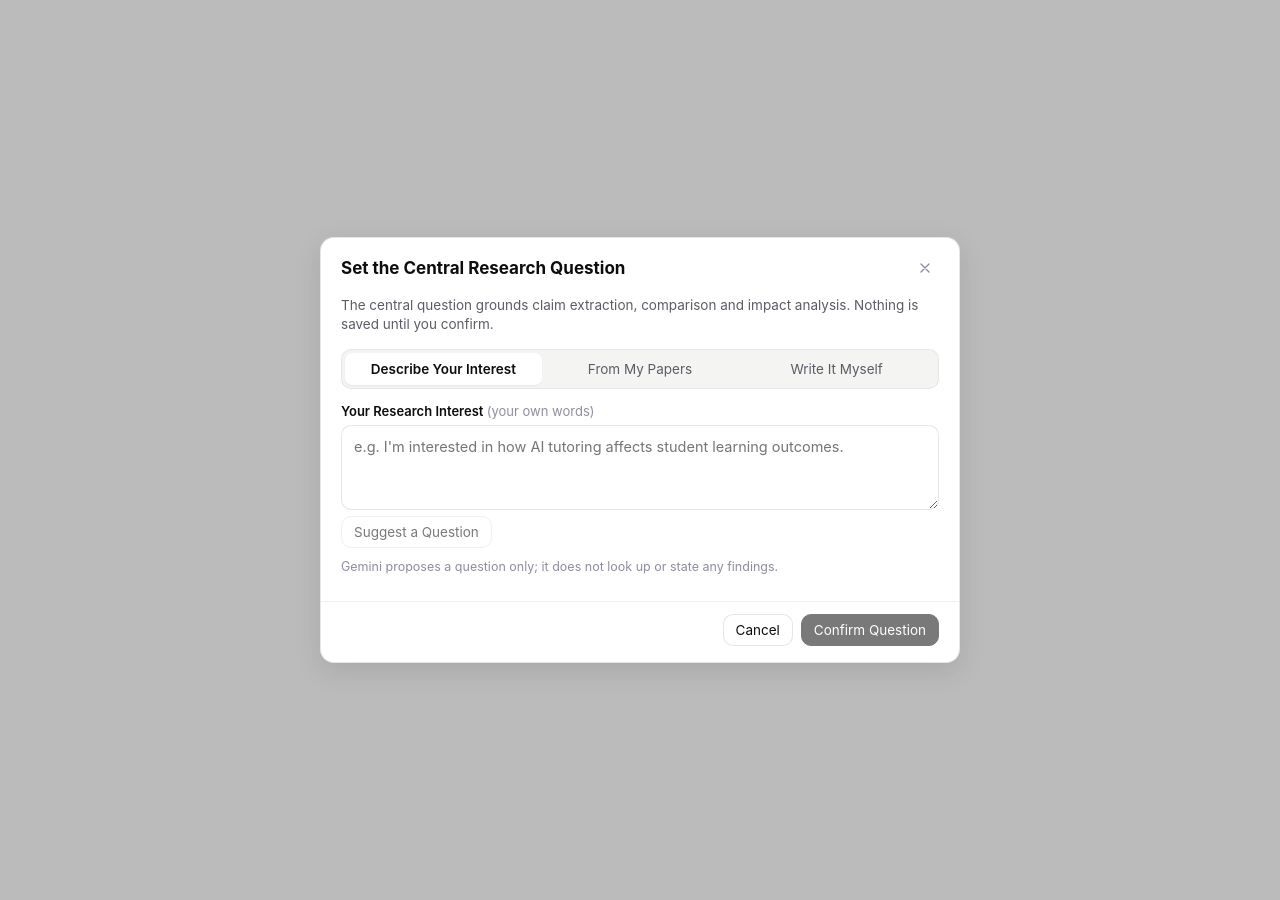
QuestionDialog › regenerates a different suggestion
The image size is (1280, 900).
Replace the text in the text box labelled "Your Research Interest (your own words)" with "I'm interested in how AI tutoring affects student learning outcomes." at [640, 467], box [341, 425, 939, 510]
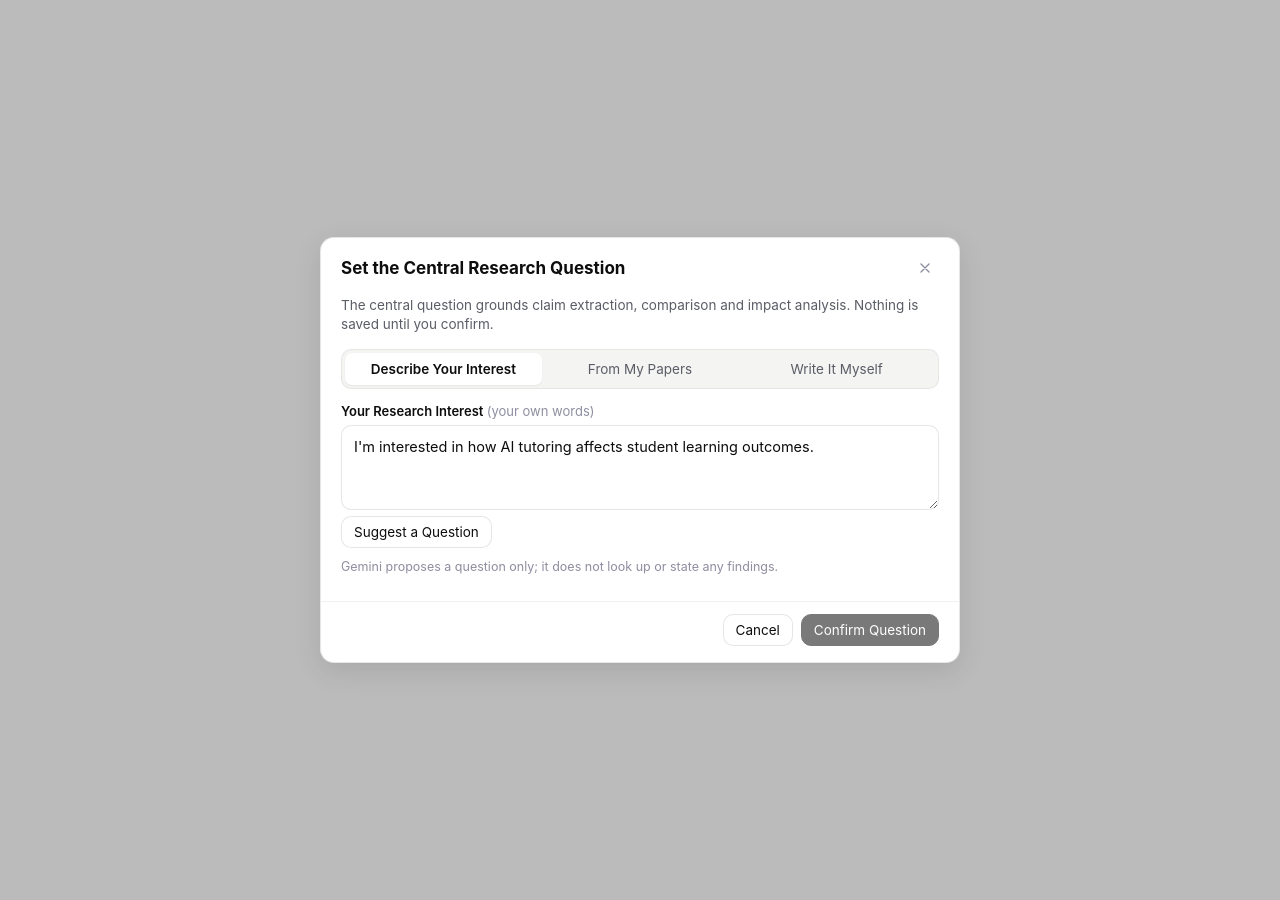
Click the button "Suggest a Question" at [416, 532], box [341, 516, 492, 548]
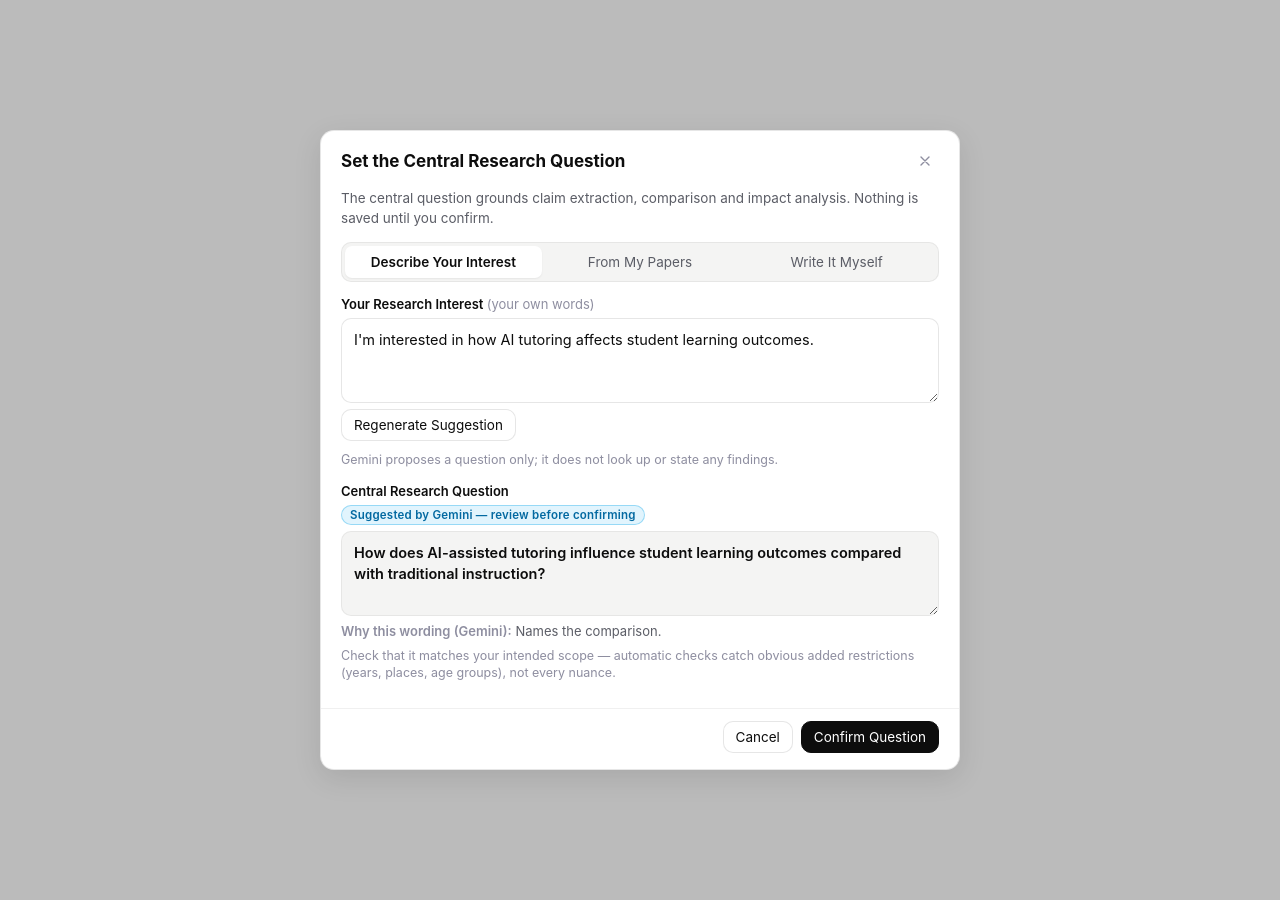
Click the button "Regenerate Suggestion" at [428, 425], box [341, 409, 516, 441]
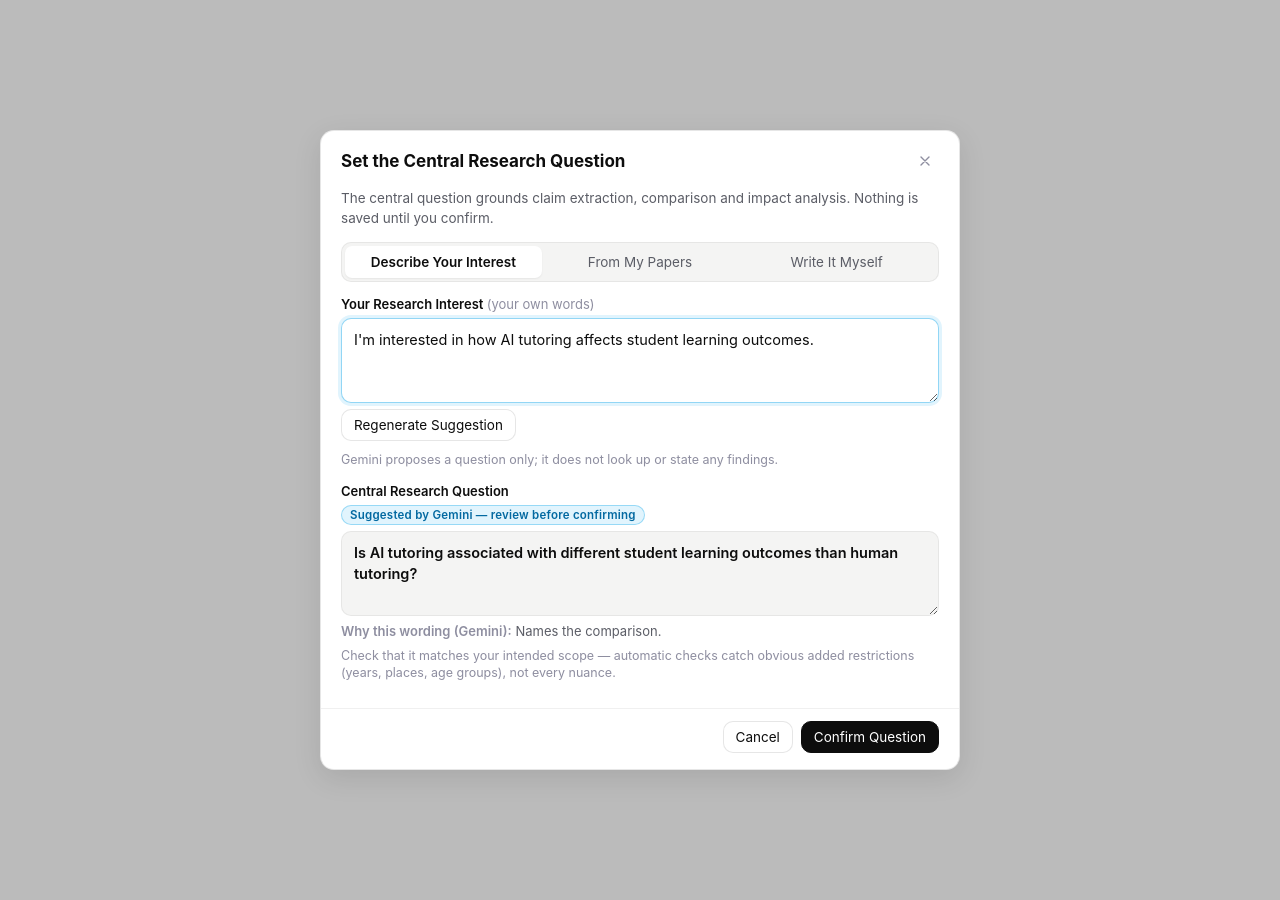
Expected: the text box labelled "Central Research Question" holds "Is AI tutoring associated with different student learning outcomes than human tutoring?", [341, 531, 939, 616]
